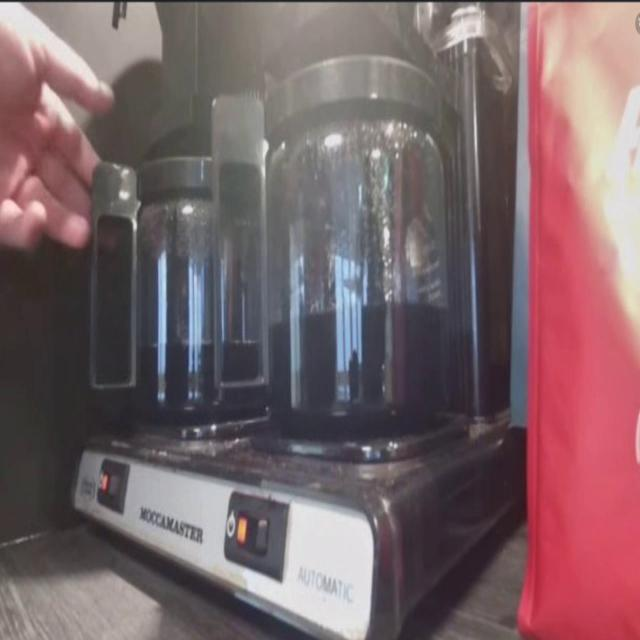coffee: (256, 43, 474, 449), (119, 134, 291, 432)
